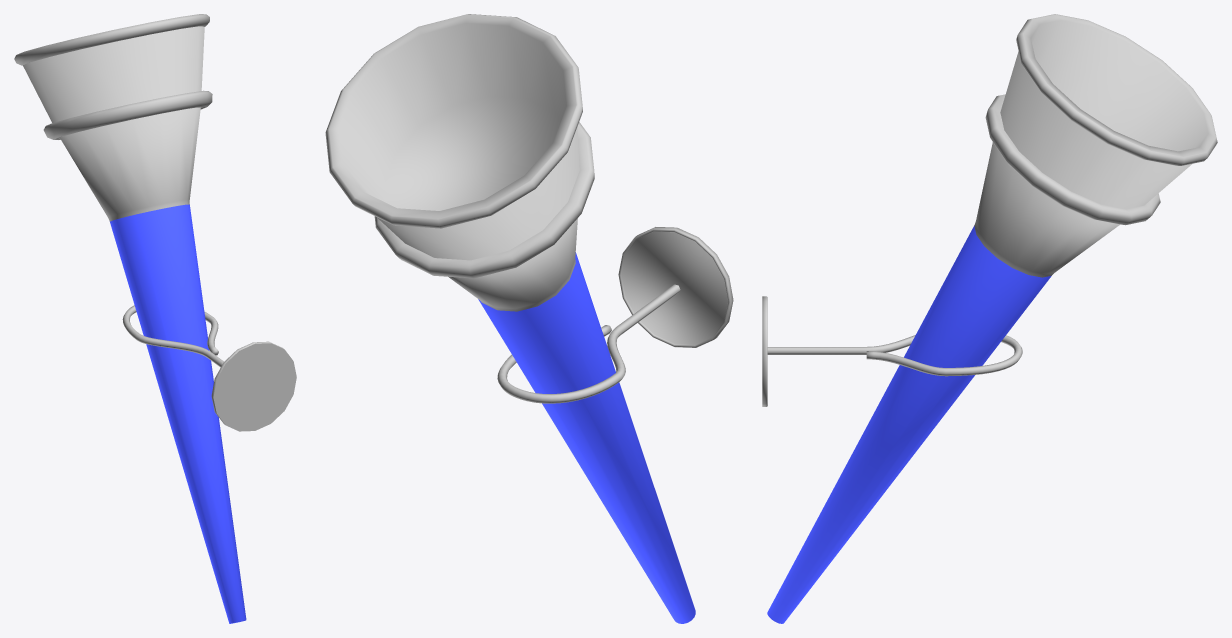
The model's file is Wall-Torch-002.fbx.
The picture shows the model from 3 angles, left to right: view 1: azimuth 30°, elevation 25°; view 2: azimuth 150°, elevation 25°; view 3: azimuth 270°, elevation 25°; orthographic projection. The views are drawn at different scales.
Parts seen in each view (by area): view 1: Cup, Handle, Wall-Mount-Bracket, Wall-Mount-Arm; view 2: Cup, Handle, Wall-Mount-Bracket, Wall-Mount-Arm; view 3: Cup, Handle, Wall-Mount-Arm, Wall-Mount-Bracket.
Boxes of the visible parts, x1,y1,x2,y2 form: Cup: (14,14,212,221); Handle: (110,204,246,623); Wall-Mount-Bracket: (211,341,296,431); Wall-Mount-Arm: (122,305,223,367); Cup: (325,14,594,311); Handle: (478,252,695,623); Wall-Mount-Bracket: (618,227,733,347); Wall-Mount-Arm: (497,284,680,403); Cup: (974,14,1217,277); Handle: (767,226,1051,623); Wall-Mount-Arm: (767,335,1022,376); Wall-Mount-Bracket: (762,296,767,406).
Bounding box in the file's own units: 13.3 × 38.18 × 26.28.
